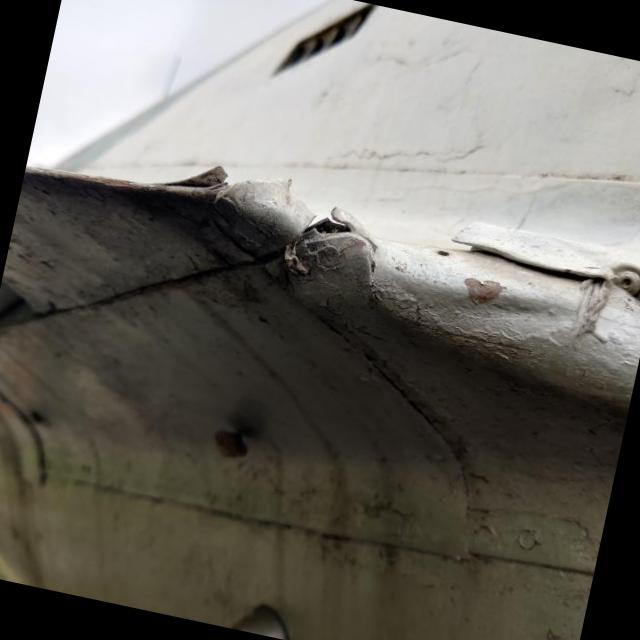Crack: (161, 165, 226, 186), (300, 216, 350, 238)
